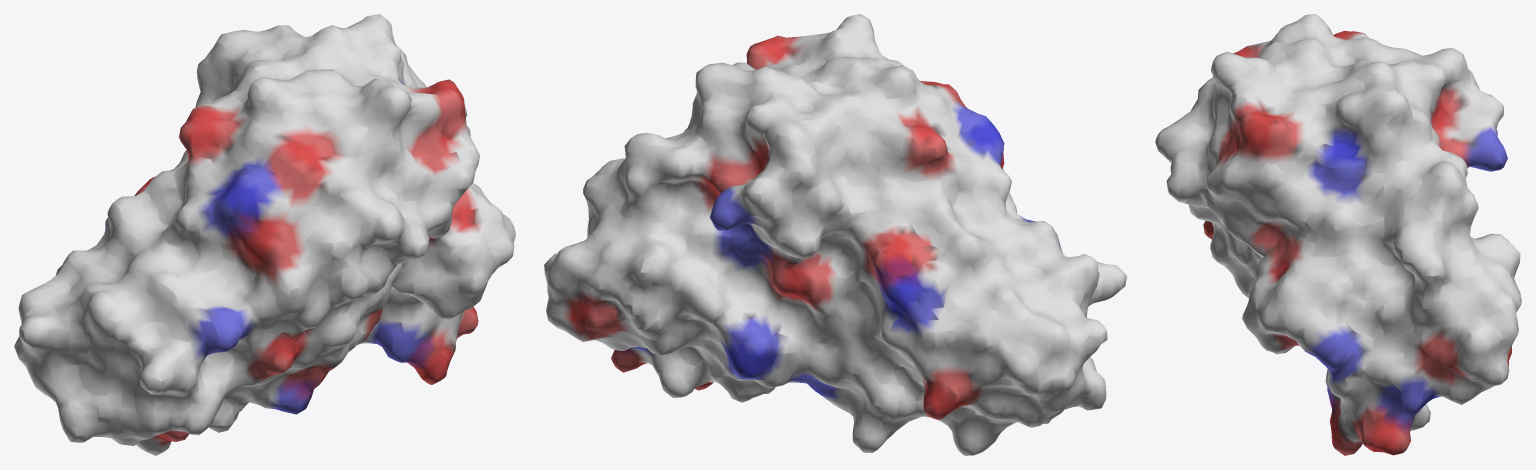
The model's file is 1OHZ_AB_se_0.fbx.
The picture shows the model from 3 angles, left to right: view 1: azimuth 30°, elevation 25°; view 2: azimuth 150°, elevation 25°; view 3: azimuth 270°, elevation 25°; orthographic projection. The views are drawn at different scales.
Visible parts, largest first — view 1: Cube; view 2: Cube; view 3: Cube.
Part boxes in pixels (bbox=[...]): Cube: bbox=[14, 14, 515, 455]; Cube: bbox=[544, 14, 1126, 455]; Cube: bbox=[1155, 14, 1521, 455].
Bounding box in the file's own units: 5787 × 3996 × 3753.
